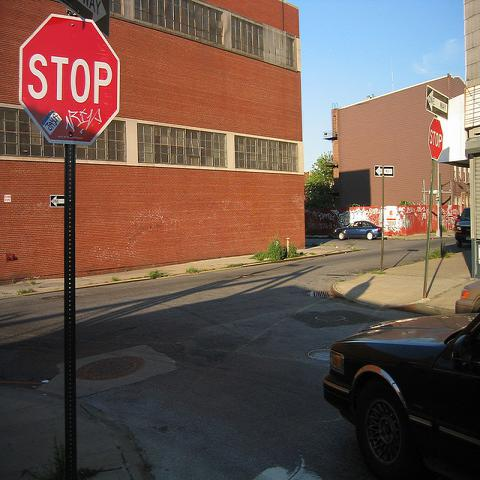car: (322, 310, 480, 479), (334, 221, 382, 240), (454, 279, 480, 313), (454, 208, 472, 248)
